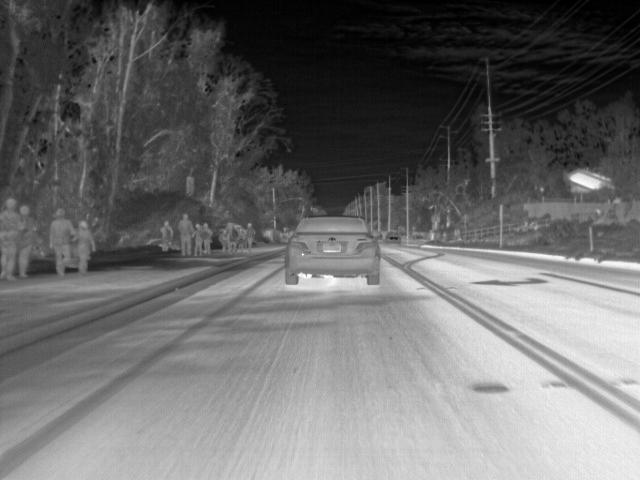car: (286, 215, 381, 286), (387, 230, 403, 244)
person: (48, 206, 72, 278), (1, 198, 19, 282), (75, 218, 98, 275), (20, 204, 35, 278), (180, 213, 194, 257), (161, 220, 174, 254), (192, 222, 202, 255), (202, 222, 212, 252), (246, 222, 255, 250), (220, 228, 230, 251), (230, 226, 237, 250)
